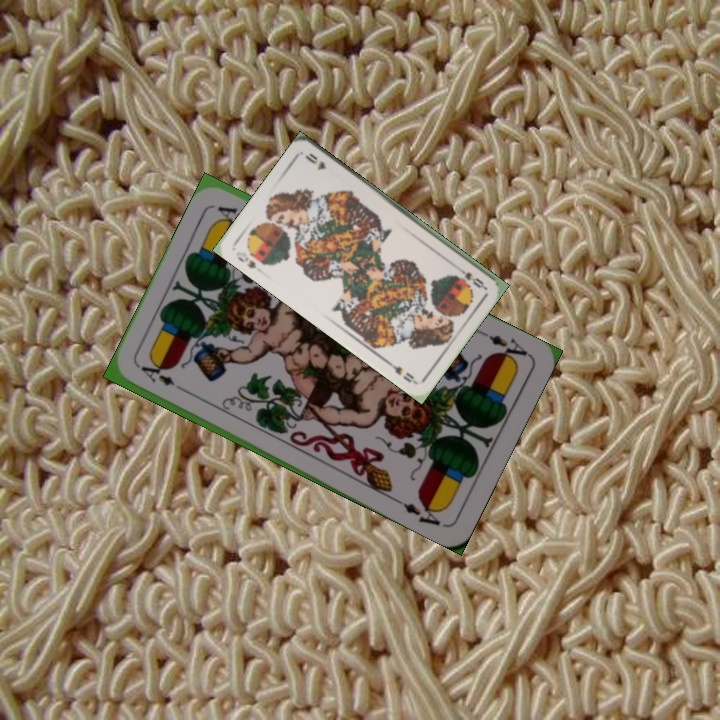EA: (476, 326, 532, 366), (137, 362, 190, 395)
SO: (452, 262, 488, 291), (232, 248, 259, 271)
